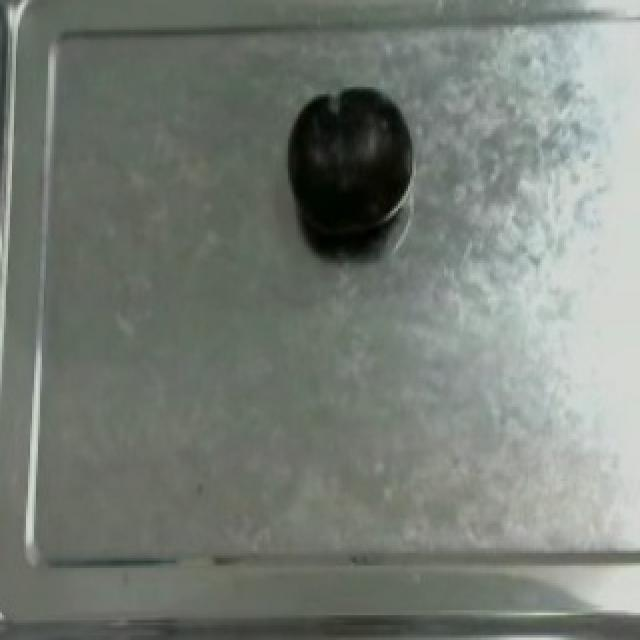Fruit: (282, 82, 418, 250)
